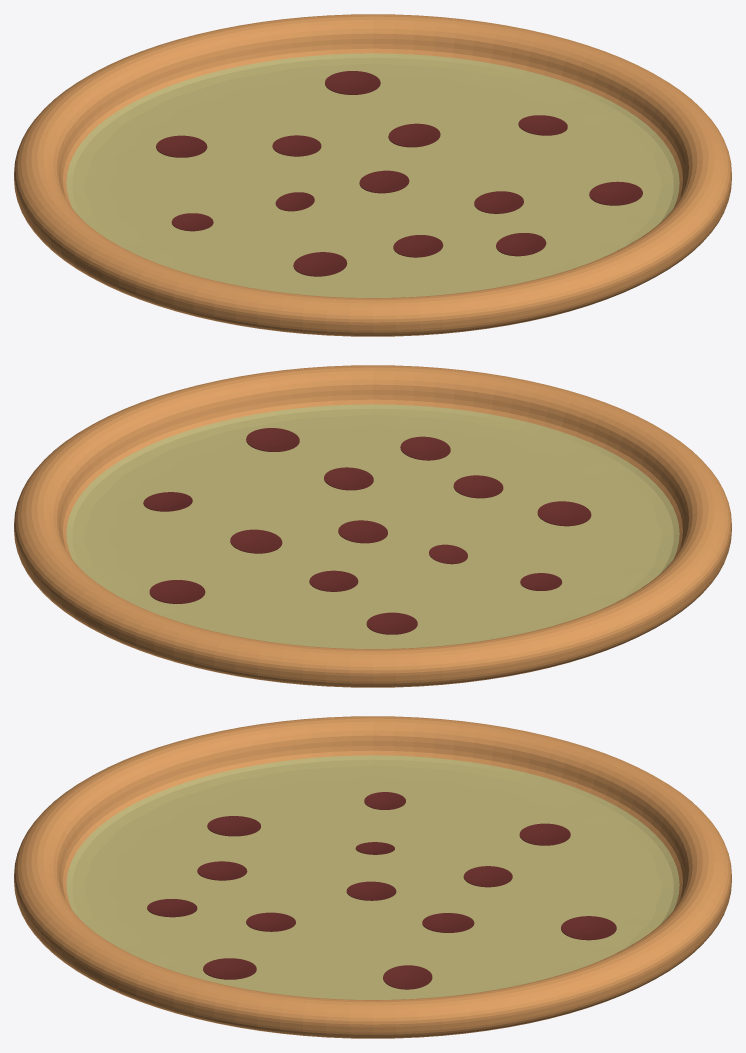
The model's file is new york.fbx.
3 views of the same model, one above another, from view 1: azimuth 30°, elevation 25°; view 2: azimuth 150°, elevation 25°; view 3: azimuth 270°, elevation 25° (orthographic).
Visible parts, largest first — view 1: Circle, Circle.005, Circle.003, Circle.009, Circle.011, Circle.002, Circle.006, Circle.012, Circle.007, Circle.013, Circle.001, Circle.010 (+2 smaller); view 2: Circle, Circle.005, Circle.003, Circle.009, Circle.011, Circle.002, Circle.013, Circle.007, Circle.012, Circle.006, Circle.001, Circle.010 (+2 smaller); view 3: Circle, Circle.005, Circle.010, Circle.009, Circle.006, Circle.003, Circle.011, Circle.001, Circle.007, Circle.013, Circle.012, Circle.002 (+1 smaller).
Boxes of the visible parts, left/top/right/bottom form: Circle: left=14, top=14, right=731, bottom=336; Circle.005: left=325, top=71, right=380, bottom=94; Circle.003: left=293, top=252, right=347, bottom=276; Circle.009: left=589, top=181, right=642, bottom=205; Circle.011: left=388, top=123, right=440, bottom=147; Circle.002: left=496, top=233, right=546, bottom=256; Circle.006: left=156, top=135, right=207, bottom=157; Circle.012: left=474, top=191, right=523, bottom=213; Circle.007: left=359, top=170, right=409, bottom=193; Circle.013: left=393, top=235, right=443, bottom=257; Circle.001: left=272, top=135, right=321, bottom=156; Circle.010: left=518, top=115, right=567, bottom=135; Circle: left=14, top=365, right=731, bottom=687; Circle.005: left=149, top=580, right=205, bottom=603; Circle.003: left=537, top=501, right=591, bottom=526; Circle.009: left=246, top=428, right=299, bottom=451; Circle.011: left=230, top=529, right=282, bottom=553; Circle.002: left=400, top=436, right=450, bottom=460; Circle.013: left=453, top=475, right=503, bottom=498; Circle.007: left=338, top=520, right=387, bottom=543; Circle.012: left=324, top=467, right=373, bottom=490; Circle.006: left=366, top=612, right=417, bottom=634; Circle.001: left=309, top=570, right=358, bottom=591; Circle.010: left=143, top=492, right=192, bottom=511; Circle: left=14, top=716, right=731, bottom=1038; Circle.005: left=561, top=916, right=616, bottom=940; Circle.010: left=383, top=965, right=432, bottom=989; Circle.009: left=203, top=958, right=256, bottom=979; Circle.006: left=519, top=823, right=570, bottom=845; Circle.003: left=207, top=816, right=260, bottom=836; Circle.011: left=422, top=913, right=474, bottom=932; Circle.001: left=463, top=866, right=512, bottom=887; Circle.007: left=346, top=881, right=396, bottom=900; Circle.013: left=197, top=861, right=247, bottom=880; Circle.012: left=246, top=912, right=295, bottom=931; Circle.002: left=147, top=899, right=197, bottom=917.
Bounding box in the file's own units: 198 × 10.28 × 198.
